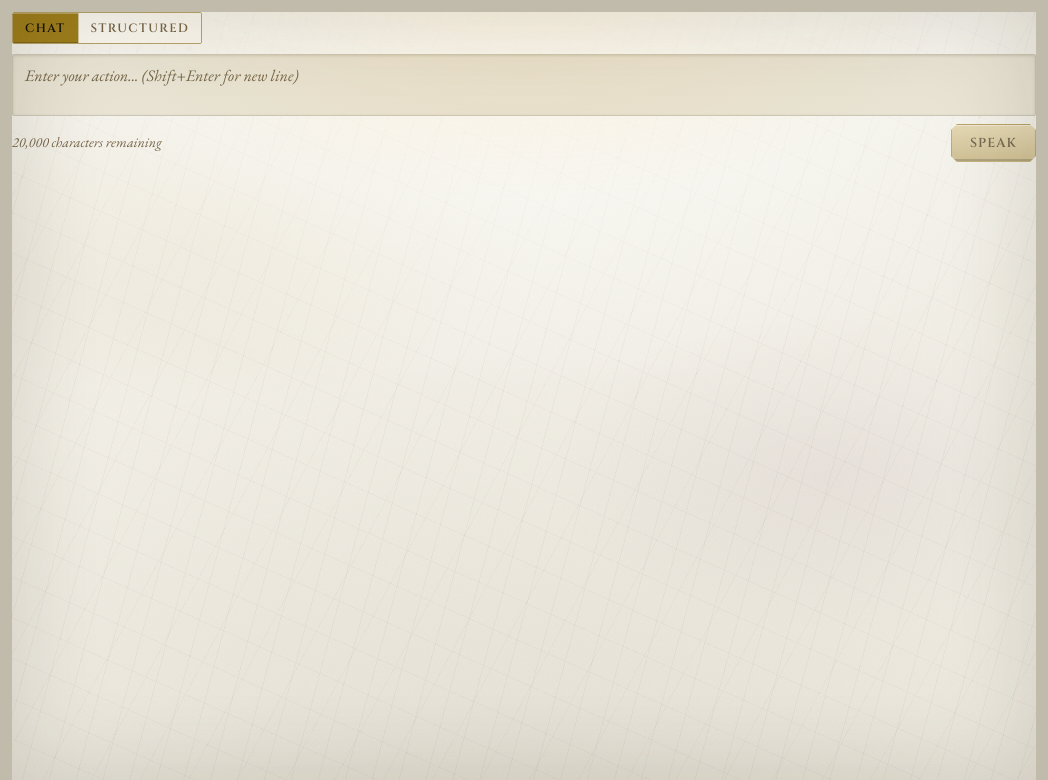
Test case: components/TurnComposer › adds repeatable action and message/order rows and locks form actions while processing
The width and height of the screenshot is (1048, 780).
Click the button "Structured" at (139, 28), box [78,13,201,43]
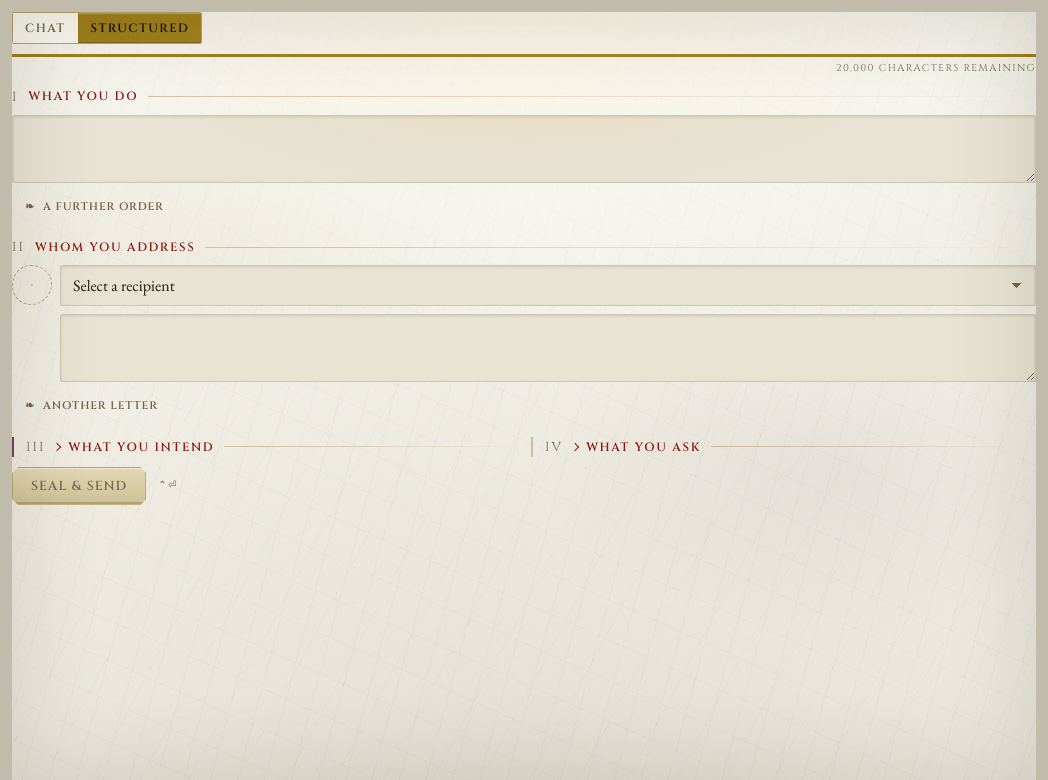
expect the button "❧ A further order" is shown: met
Click the button "❧ A further order" at (94, 206), box [12,191,177,221]
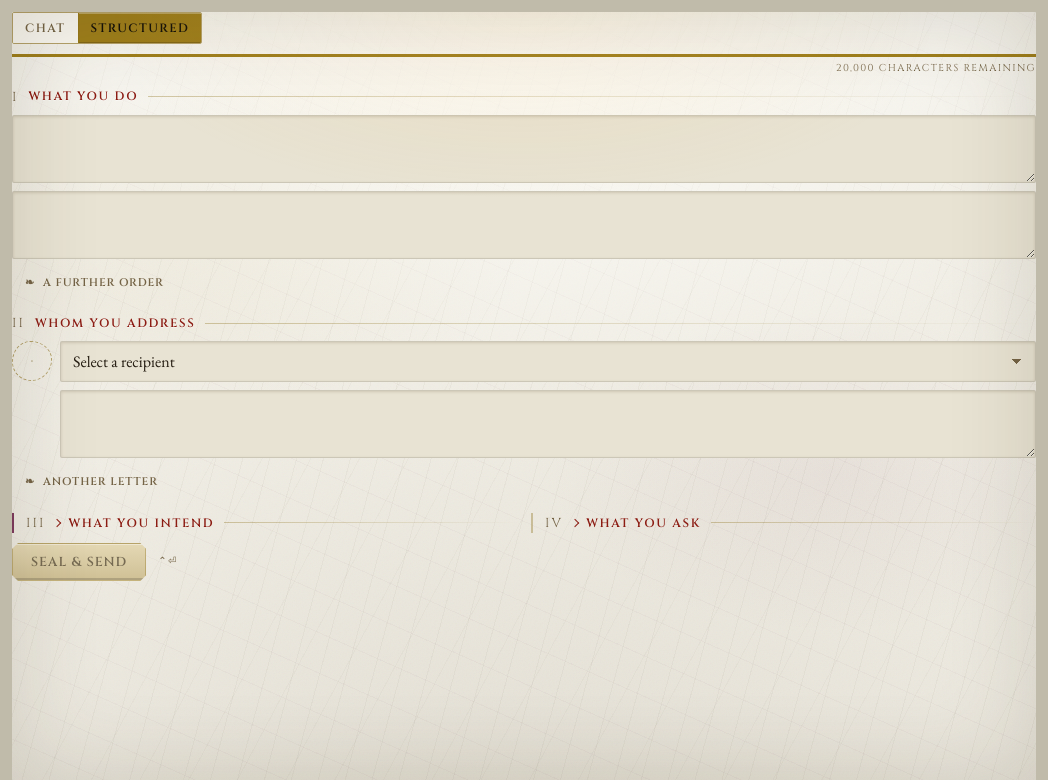
expect the button "❧ Another letter" is shown: met
Click the button "❧ Another letter" at (92, 482), box [12,467,171,497]
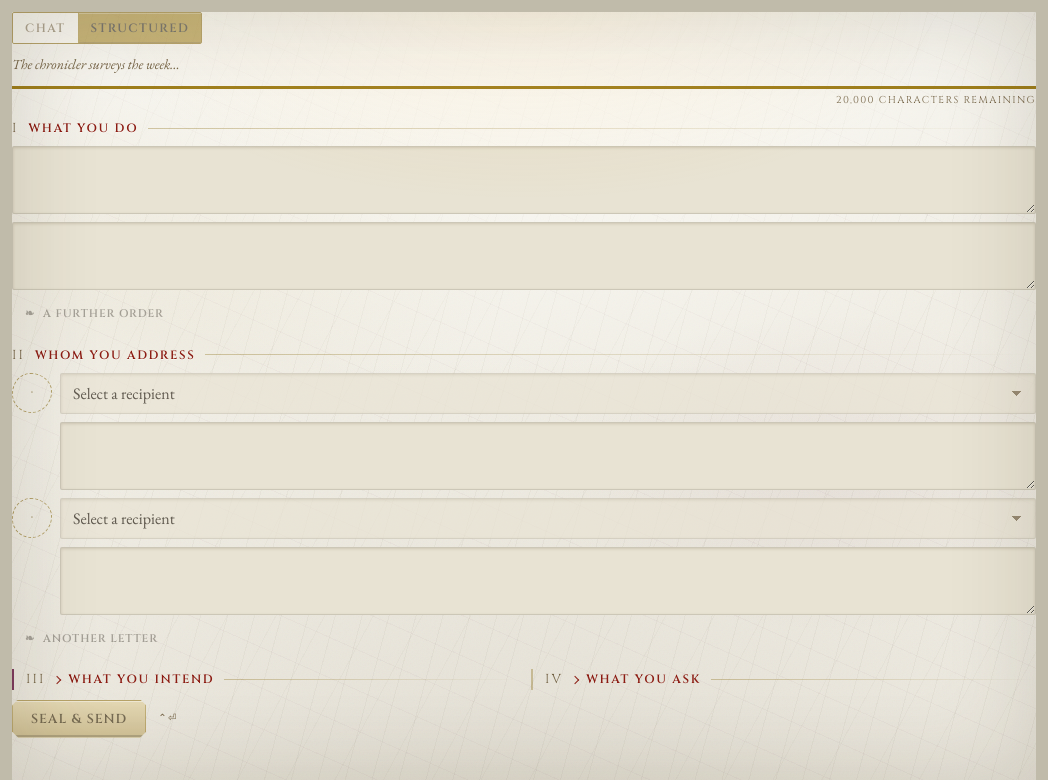
expect the number of dropdowns is 2: met, box [60,373,1036,414]; [60,498,1036,539]
